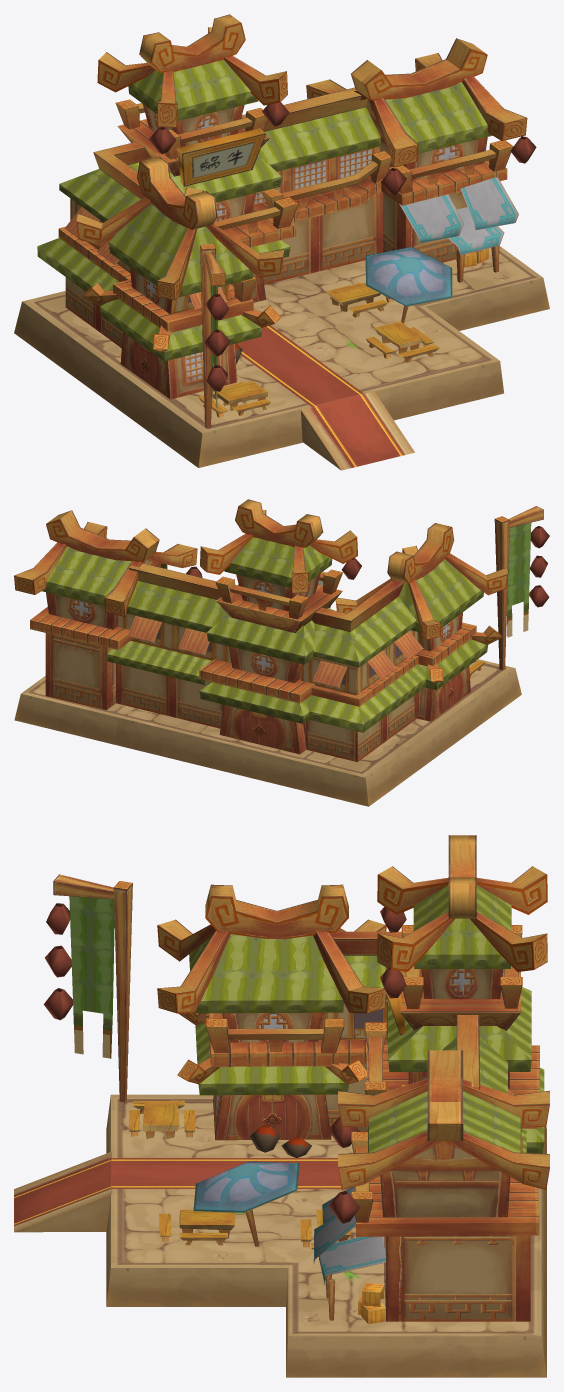
Rendered from Shop.FBX.
3 views of the same model, one above another, from view 1: azimuth 30°, elevation 25°; view 2: azimuth 150°, elevation 25°; view 3: azimuth 270°, elevation 25° (orthographic). The views are drawn at different scales.
Parts seen in each view (by area): view 1: shop, shop05; view 2: shop, shop06, shop05; view 3: shop, shop06, shop05, shop01.
Boxes of the visible parts, x1=… form: shop: x1=14, y1=14, x2=549, y2=470; shop05: x1=204, y1=294, x2=230, y2=391; shop: x1=14, y1=499, x2=543, y2=806; shop06: x1=507, y1=522, x2=531, y2=637; shop05: x1=529, y1=526, x2=549, y2=607; shop: x1=14, y1=835, x2=549, y2=1377; shop06: x1=69, y1=896, x2=114, y2=1058; shop05: x1=43, y1=903, x2=72, y2=1020; shop01: x1=328, y1=1191, x2=360, y2=1223.
Size of the model in its own units: 93.06 by 80.58 by 58.37.
